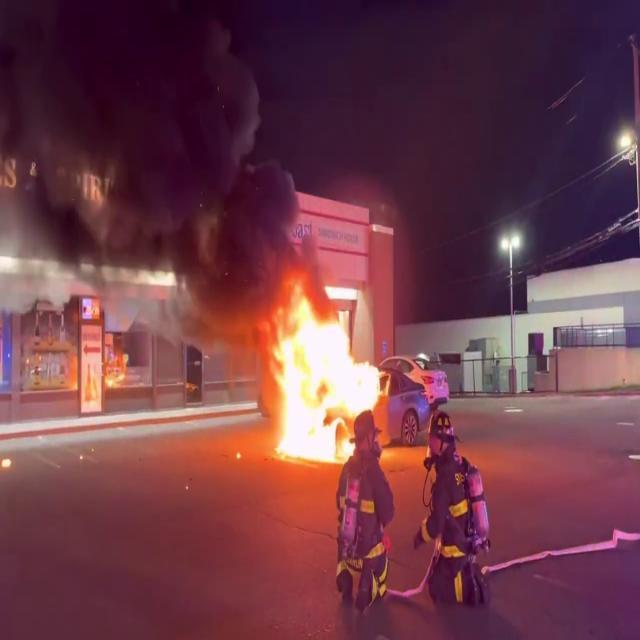Fire: (264, 276, 386, 462)
Smoke: (0, 0, 307, 325)
